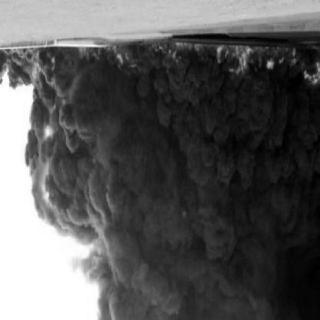Fire: (25, 52, 59, 226), (78, 42, 128, 72)
Smoke: (59, 74, 319, 320), (2, 52, 26, 92)
